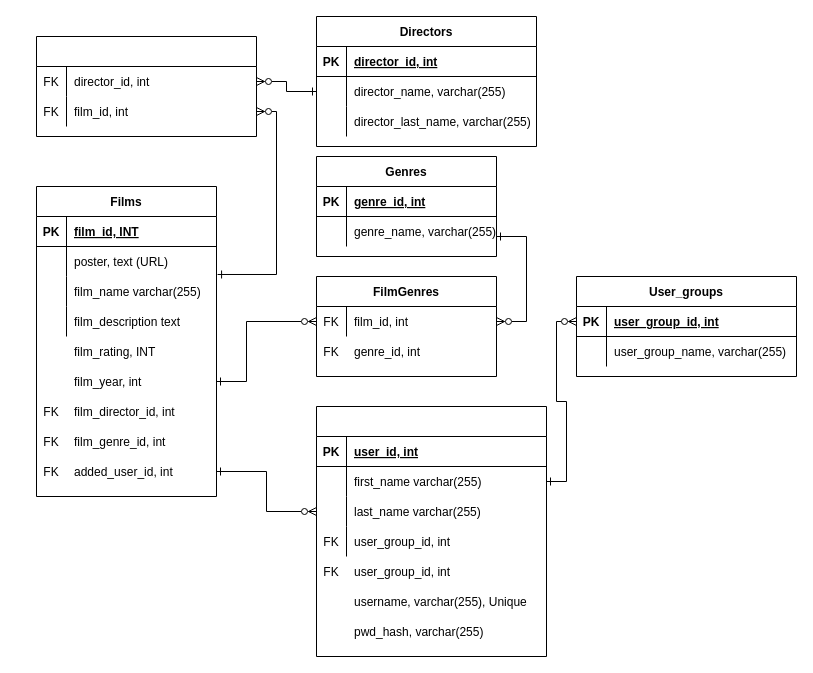
This 813x673 diagram has some shape labels left out. Each missing label, with the box of its shape:
FilmDirectors: (36, 36, 256, 136)
Users: (316, 406, 546, 656)
